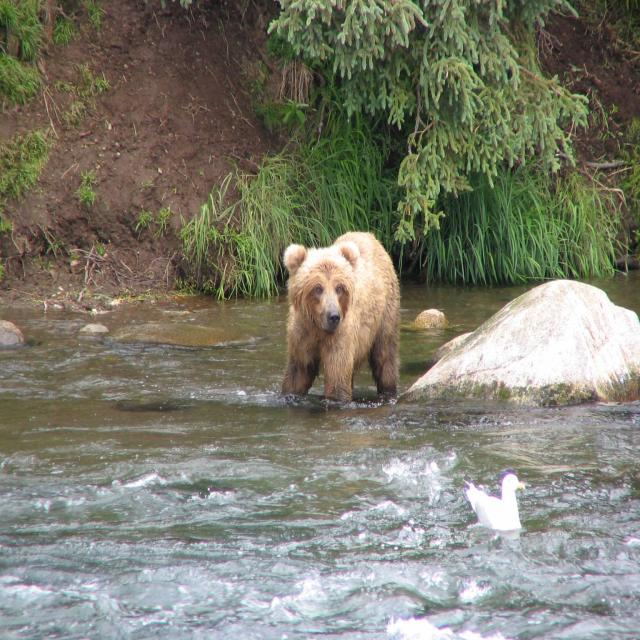bear face: (281, 233, 400, 416)
